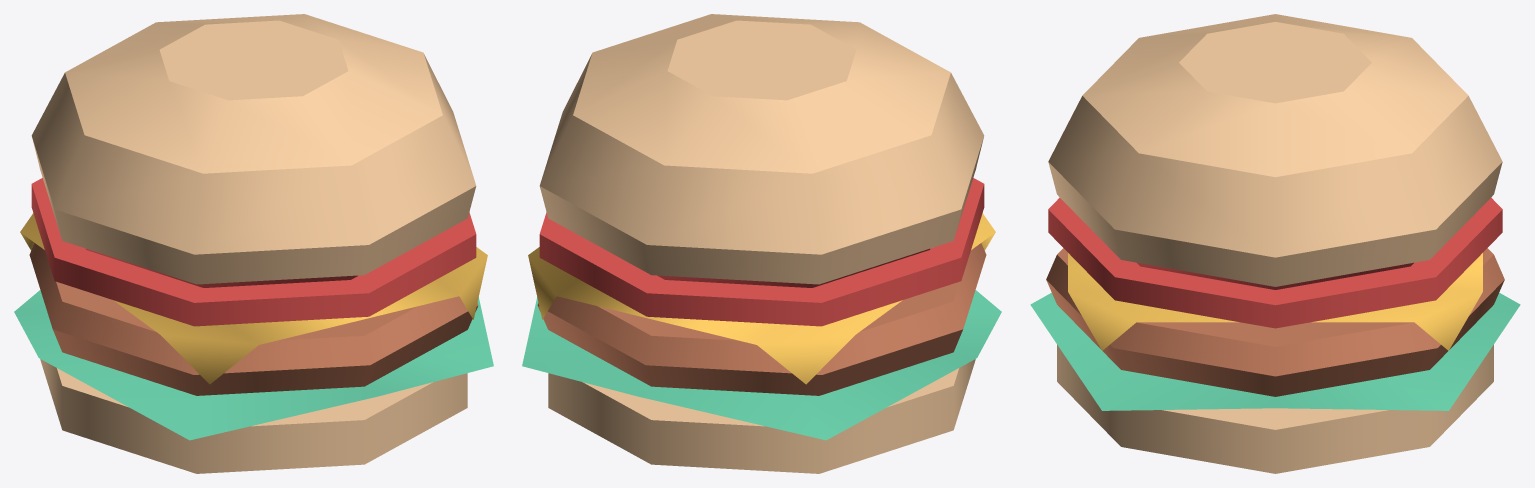
Rendered from burger.obj.
The picture shows the model from 3 angles, left to right: view 1: azimuth 30°, elevation 25°; view 2: azimuth 150°, elevation 25°; view 3: azimuth 270°, elevation 25°; orthographic projection.
Parts seen in each view (by area): view 1: bunTop, patty, bunBottom, tomato, salad, cheese; view 2: bunTop, patty, bunBottom, tomato, salad, cheese; view 3: bunTop, patty, tomato, bunBottom, salad, cheese.
Part boxes in pixels (box(x1,y1,x2,y2)): bunTop: box(31, 14, 476, 284); patty: box(29, 243, 478, 395); bunBottom: box(40, 359, 467, 473); tomato: box(31, 178, 476, 326); salad: box(14, 290, 493, 440); cheese: box(20, 213, 487, 384); bunTop: box(539, 14, 984, 284); patty: box(537, 243, 986, 395); bunBottom: box(548, 359, 975, 473); tomato: box(539, 178, 984, 326); salad: box(522, 290, 1001, 440); cheese: box(528, 213, 995, 384); bunTop: box(1048, 14, 1502, 286); patty: box(1046, 248, 1504, 396); tomato: box(1048, 197, 1502, 328); bunBottom: box(1057, 344, 1493, 473); salad: box(1030, 292, 1520, 410); cheese: box(1068, 253, 1482, 350).
Bounding box in the file's own units: 0.4041 × 0.29 × 0.4041.
